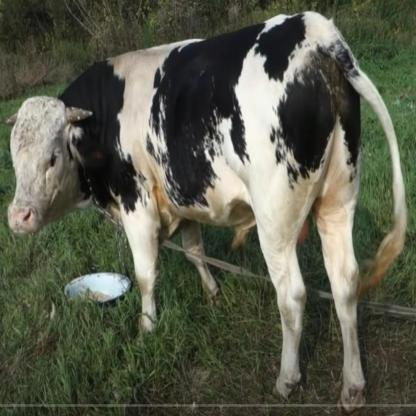cow: (8, 10, 407, 412)
